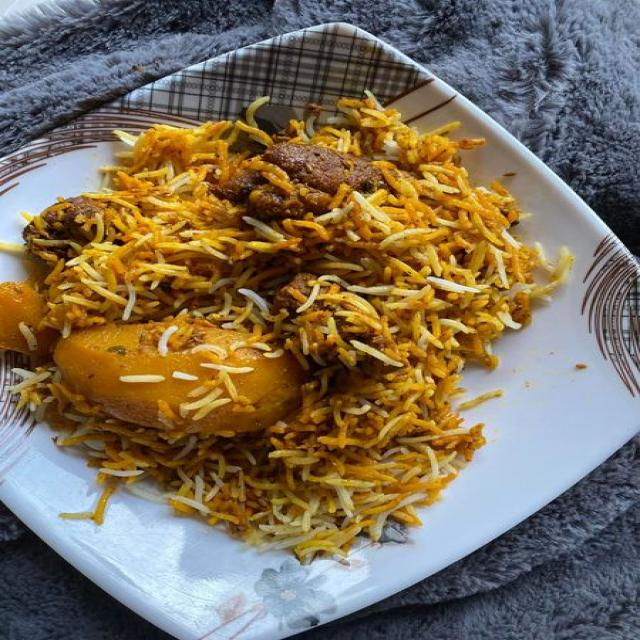Biryani: (15, 136, 552, 498)
